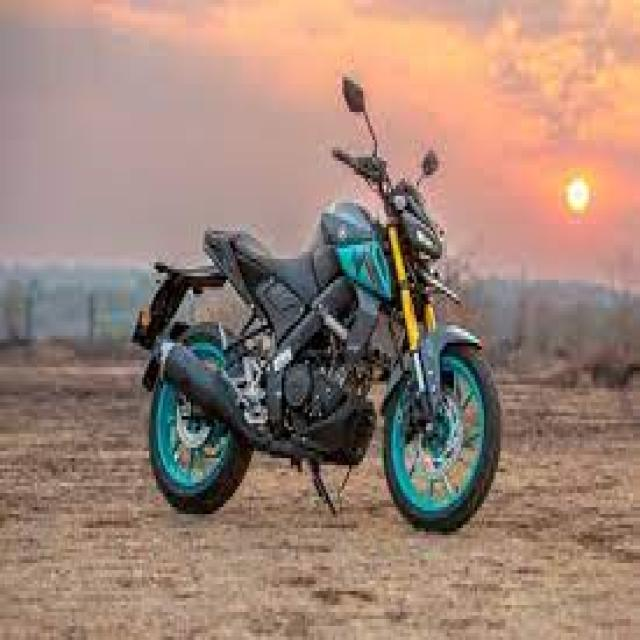Bike: (128, 60, 506, 548)
